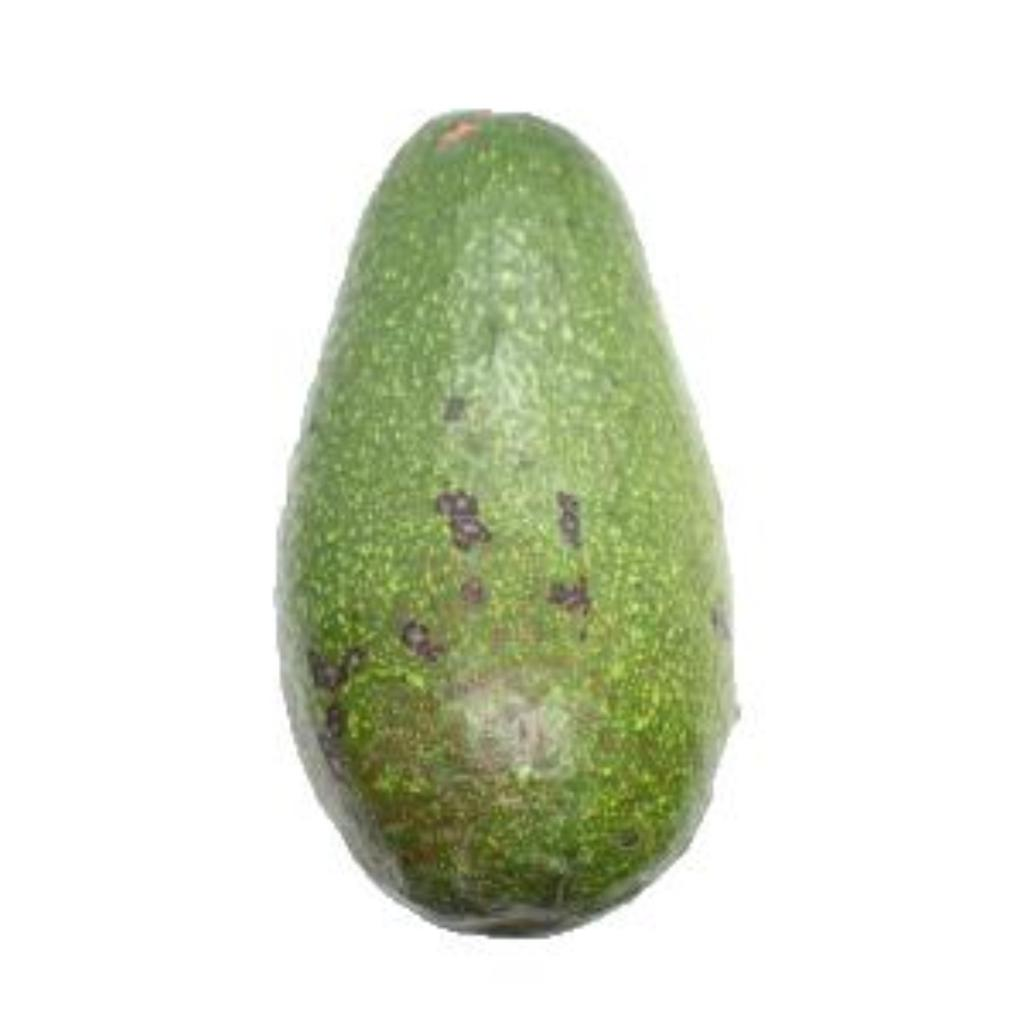cercospora: (269, 98, 755, 944)
